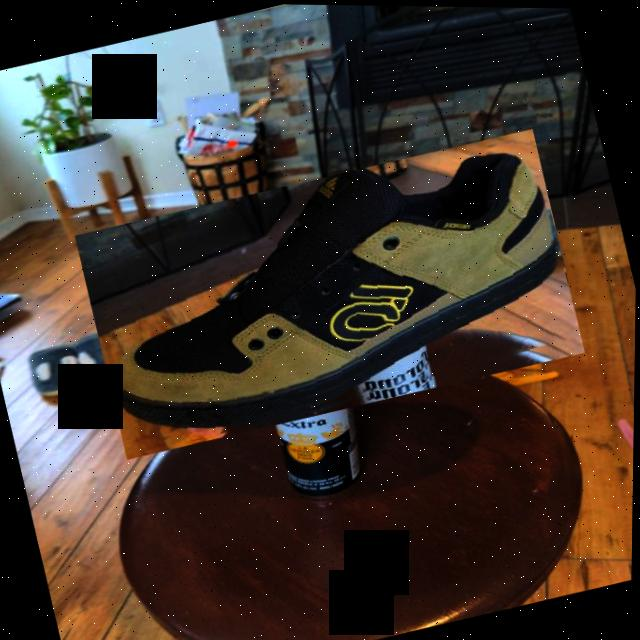shoe: (73, 121, 589, 463)
